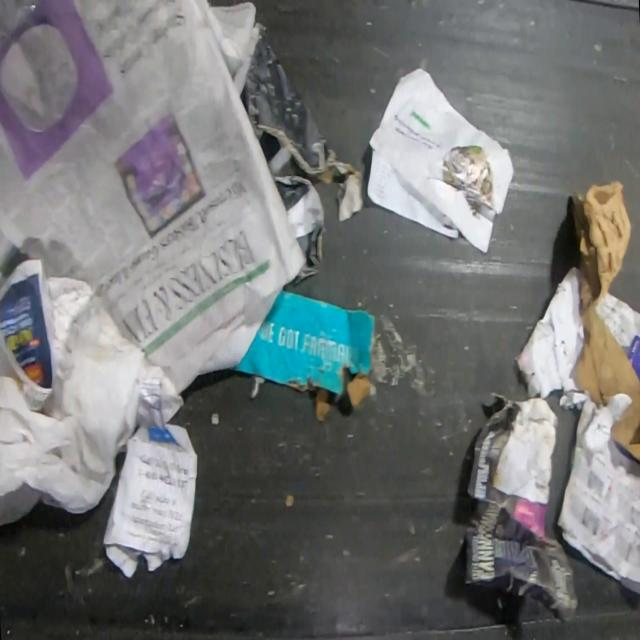cardboard: (240, 18, 364, 287), (226, 287, 379, 424), (568, 176, 640, 462)
soft_plastic: (0, 293, 151, 525)
